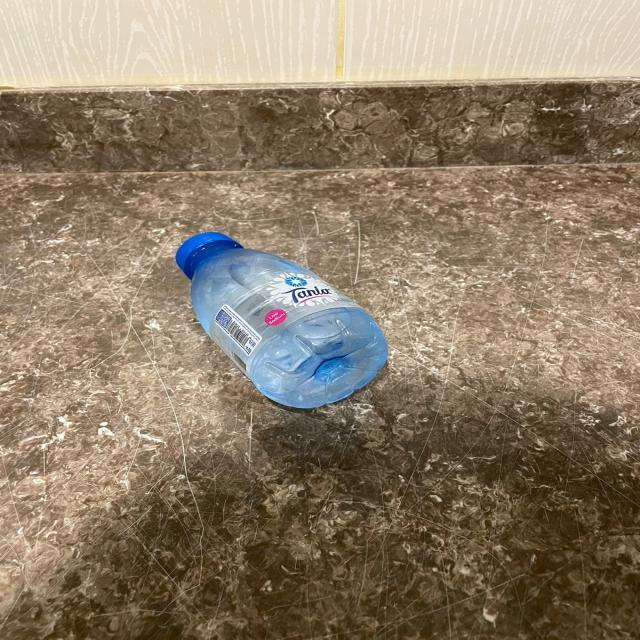chai: (176, 232, 388, 409)
